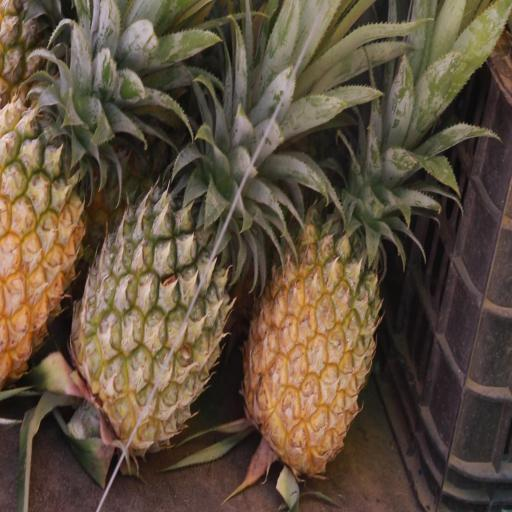Pineapple - v8 v1: (238, 118, 384, 482), (0, 45, 91, 400)
